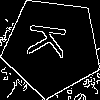K: (27, 22, 76, 61)
